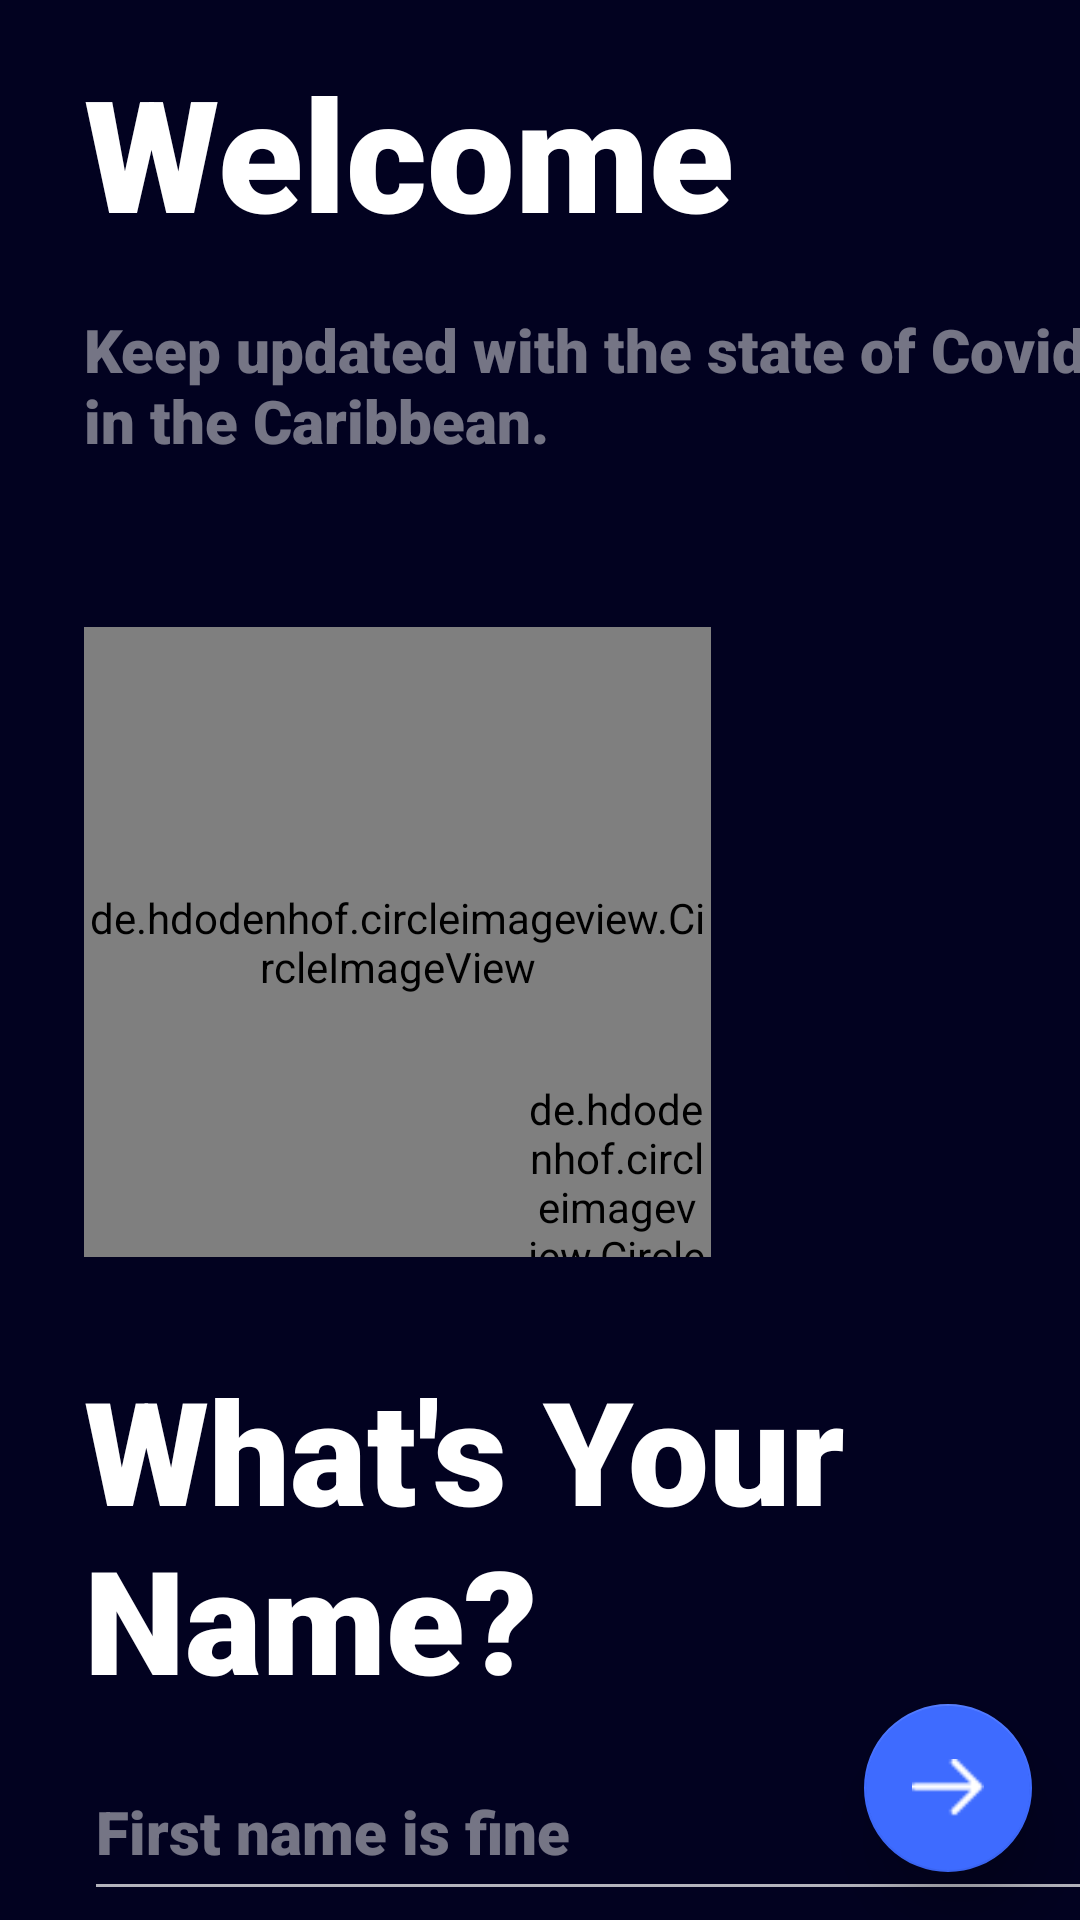

Icons on this 1080px×1920px Android screen, each with its box as {"left": x1, "top": y1, "right": x2, "bottom": y2}:
right arrow: {"left": 864, "top": 1704, "right": 1032, "bottom": 1872}
